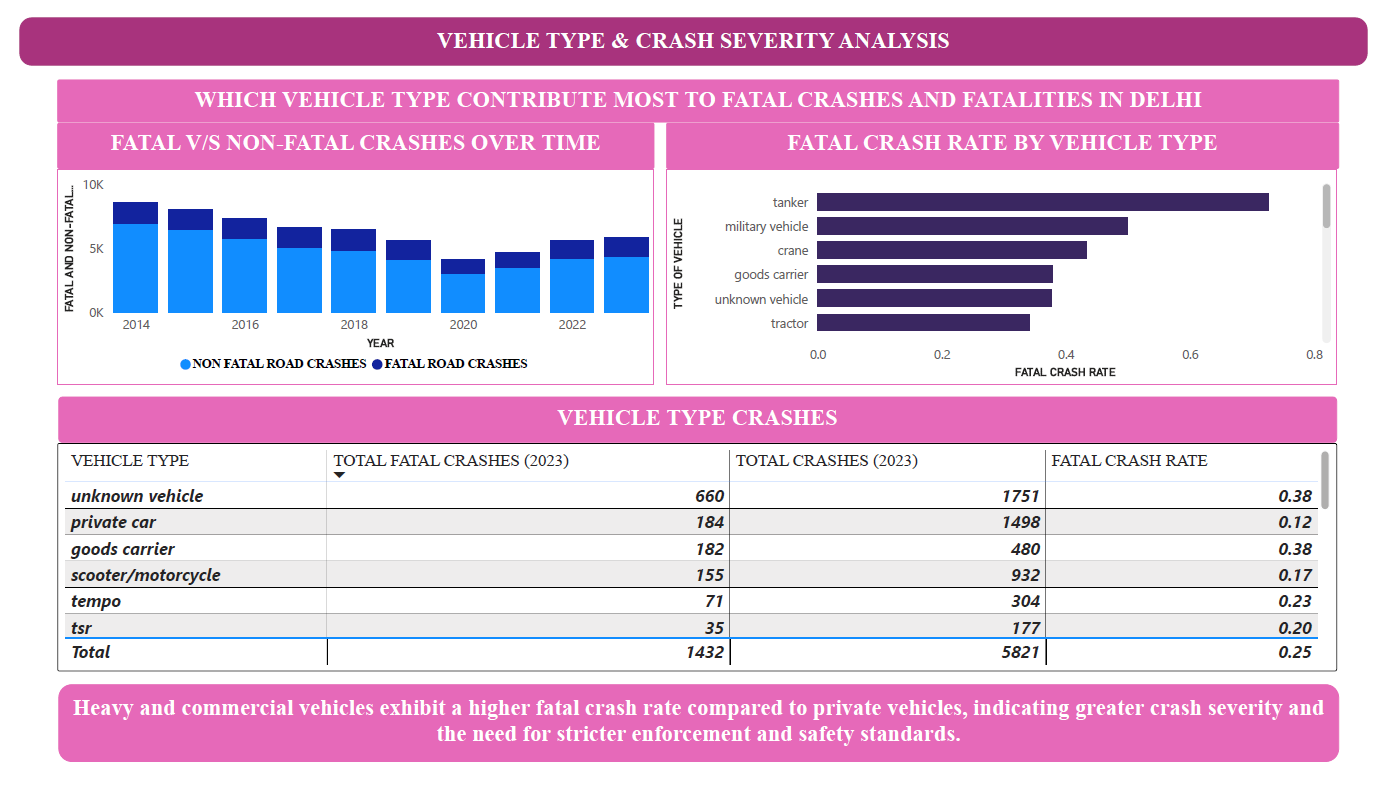

The dashboard page shown, as its layout file describes it:
{"tool":"powerbi","page":{"name":"Page 4","canvas":[1280,720],"ordinal":3},"visuals":[{"type":"textbox","box":[0,0,1280,45.7],"z":0},{"type":"textbox","box":[35.7,58.6,1217.1,41.4],"z":2000},{"type":"columnChart","fields":{"Category":["master_yearly_with_clusters.year"],"Y":["master_yearly_with_clusters.Non-Fatal Crashes","Sum(master_yearly_with_clusters.fatal_road_crashes)"]},"box":[35.7,144.3,567.1,204.3],"z":2001},{"type":"barChart","fields":{"Category":["vehicle_type_crashes_cleaned.vehicle_type"],"Y":["vehicle_type_crashes_cleaned.Fatal Crash Rate"]},"box":[614.3,144.3,637.1,204.3],"z":2002},{"type":"tableEx","fields":{"Values":["vehicle_type_crashes_cleaned.vehicle_type","Sum(vehicle_type_crashes_cleaned.fatal_crashes_2023)","Sum(vehicle_type_crashes_cleaned.total_crashes_2023)","vehicle_type_crashes_cleaned.Fatal Crash Rate"]},"box":[35.7,404.3,1215.7,217.1],"z":2003},{"type":"textbox","box":[37.1,632.9,1215.7,74.3],"z":2004},{"type":"textbox","box":[35.7,100,567.1,44.3],"z":2005},{"type":"textbox","box":[614.3,100,638.6,44.3],"z":2006},{"type":"textbox","box":[37.1,360,1214.3,44.3],"z":2007}]}

Visuals, with their boxes in screenshot pixels (x1, y1, x2, y2), scaled from the page's 1280x720 canvas onto the 1383x796 screenshot:
textbox: [0,0,1382,51]
textbox: [39,65,1354,111]
columnChart - master_yearly_with_clusters.year x master_yearly_with_clusters.Non-Fatal Crashes: [39,160,651,385]
barChart - vehicle_type_crashes_cleaned.vehicle_type x vehicle_type_crashes_cleaned.Fatal Crash Rate: [664,160,1352,385]
tableEx - vehicle_type_crashes_cleaned.vehicle_type x Sum(vehicle_type_crashes_cleaned.fatal_crashes_2023): [39,447,1352,687]
textbox: [40,700,1354,782]
textbox: [39,111,651,160]
textbox: [664,111,1354,160]
textbox: [40,398,1352,447]
